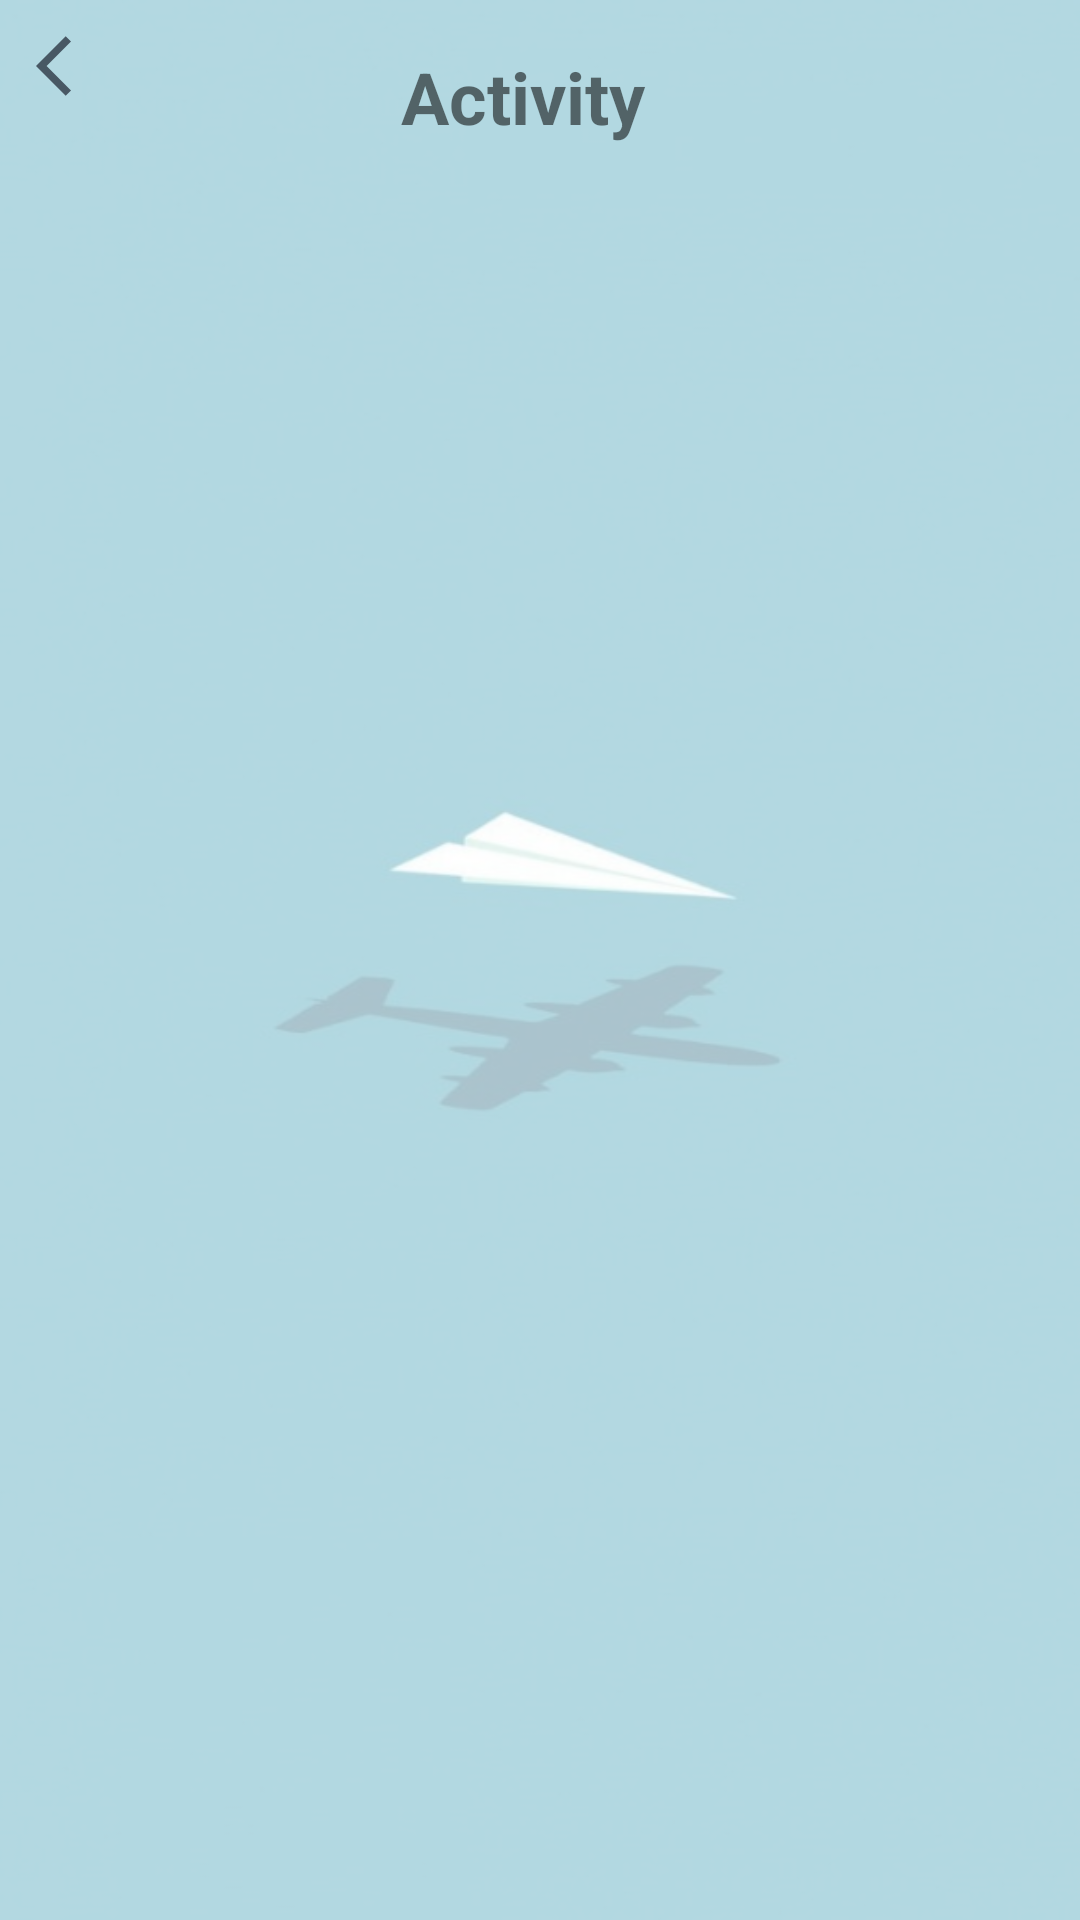

Where to tap for icons on this 1080px x 1920px app screen, as point (x, y):
arrow back: point (53, 66)
